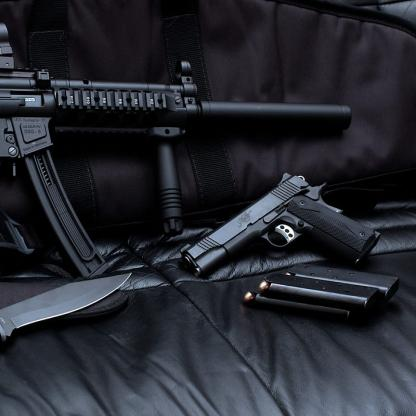Gun: (0, 19, 353, 280)
Knife: (0, 270, 132, 344)
Pistol: (179, 172, 383, 279)
